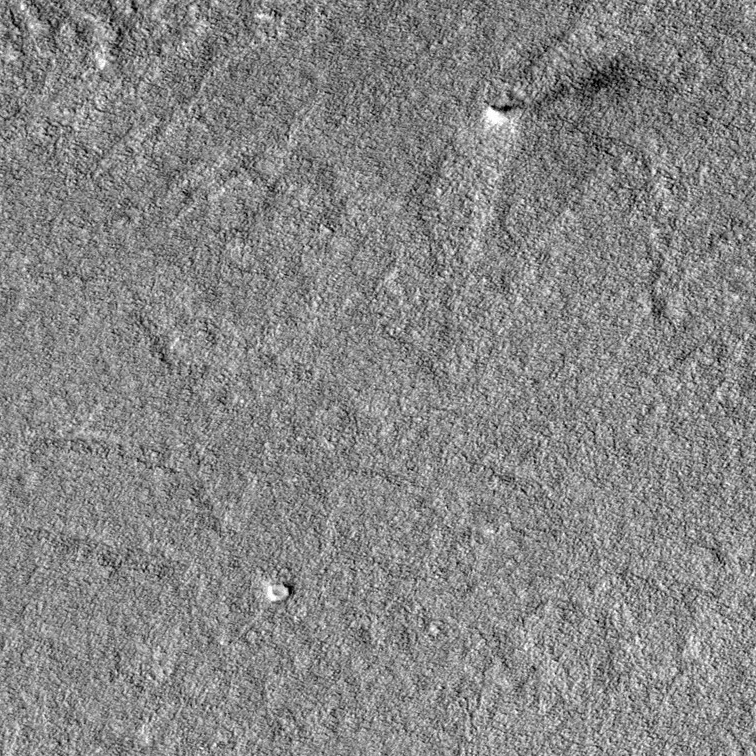dust_devil: (478, 55, 633, 133)
